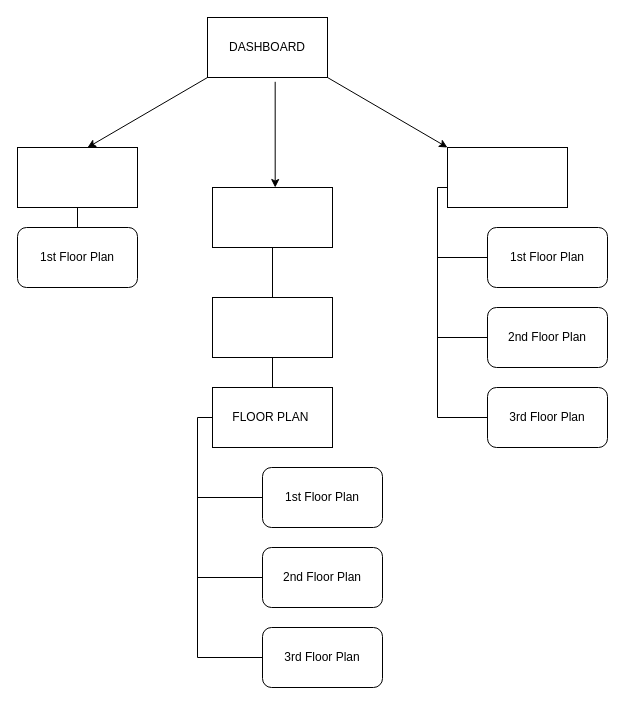
Some shapes in this 625 by 705 pixel diagram are drawn without their labels. The centre of each missing label's shape, as x and y in pixels:
BUILDINGS: point 272,327
Practicum Center (Floor Plan): point 77,177
RTS CAMPUS (Site Map): point 272,217
RTS MAIN CAMPUS (Floor Plan): point 507,177
